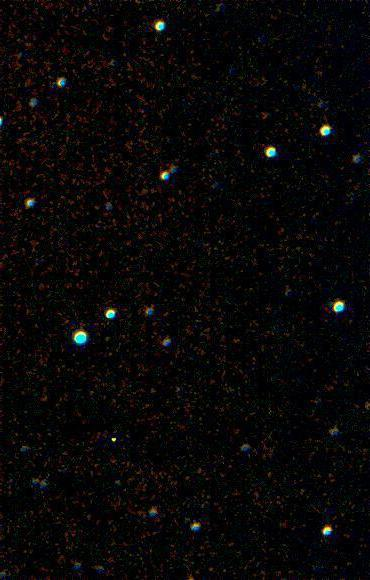star: (97, 425, 127, 455)
